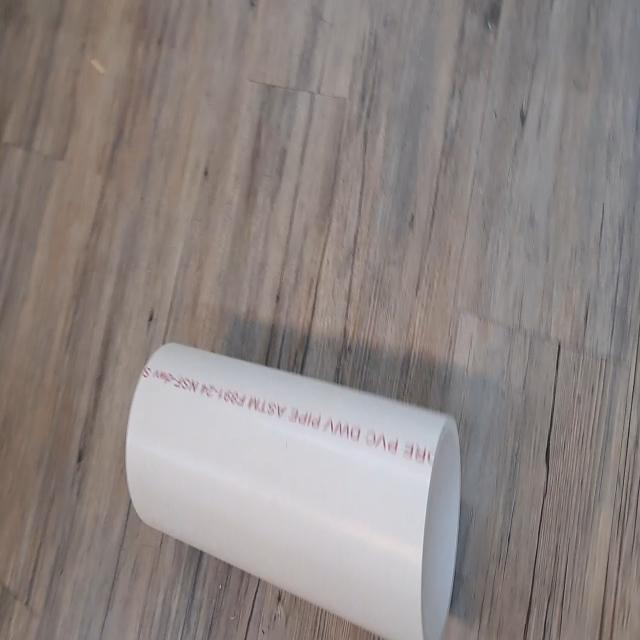CORAL: (121, 330, 468, 640)
